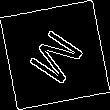M_SE: (21, 22, 89, 88)
